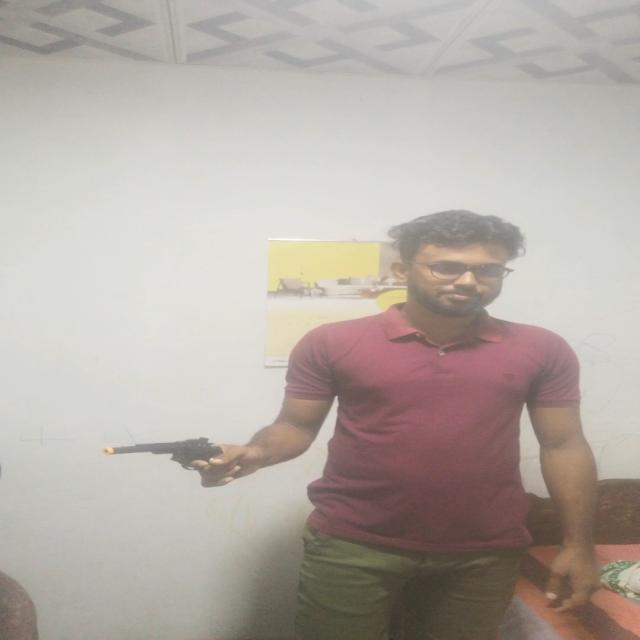Gun_Holder: (96, 438, 262, 484)
Person: (77, 210, 604, 640)
